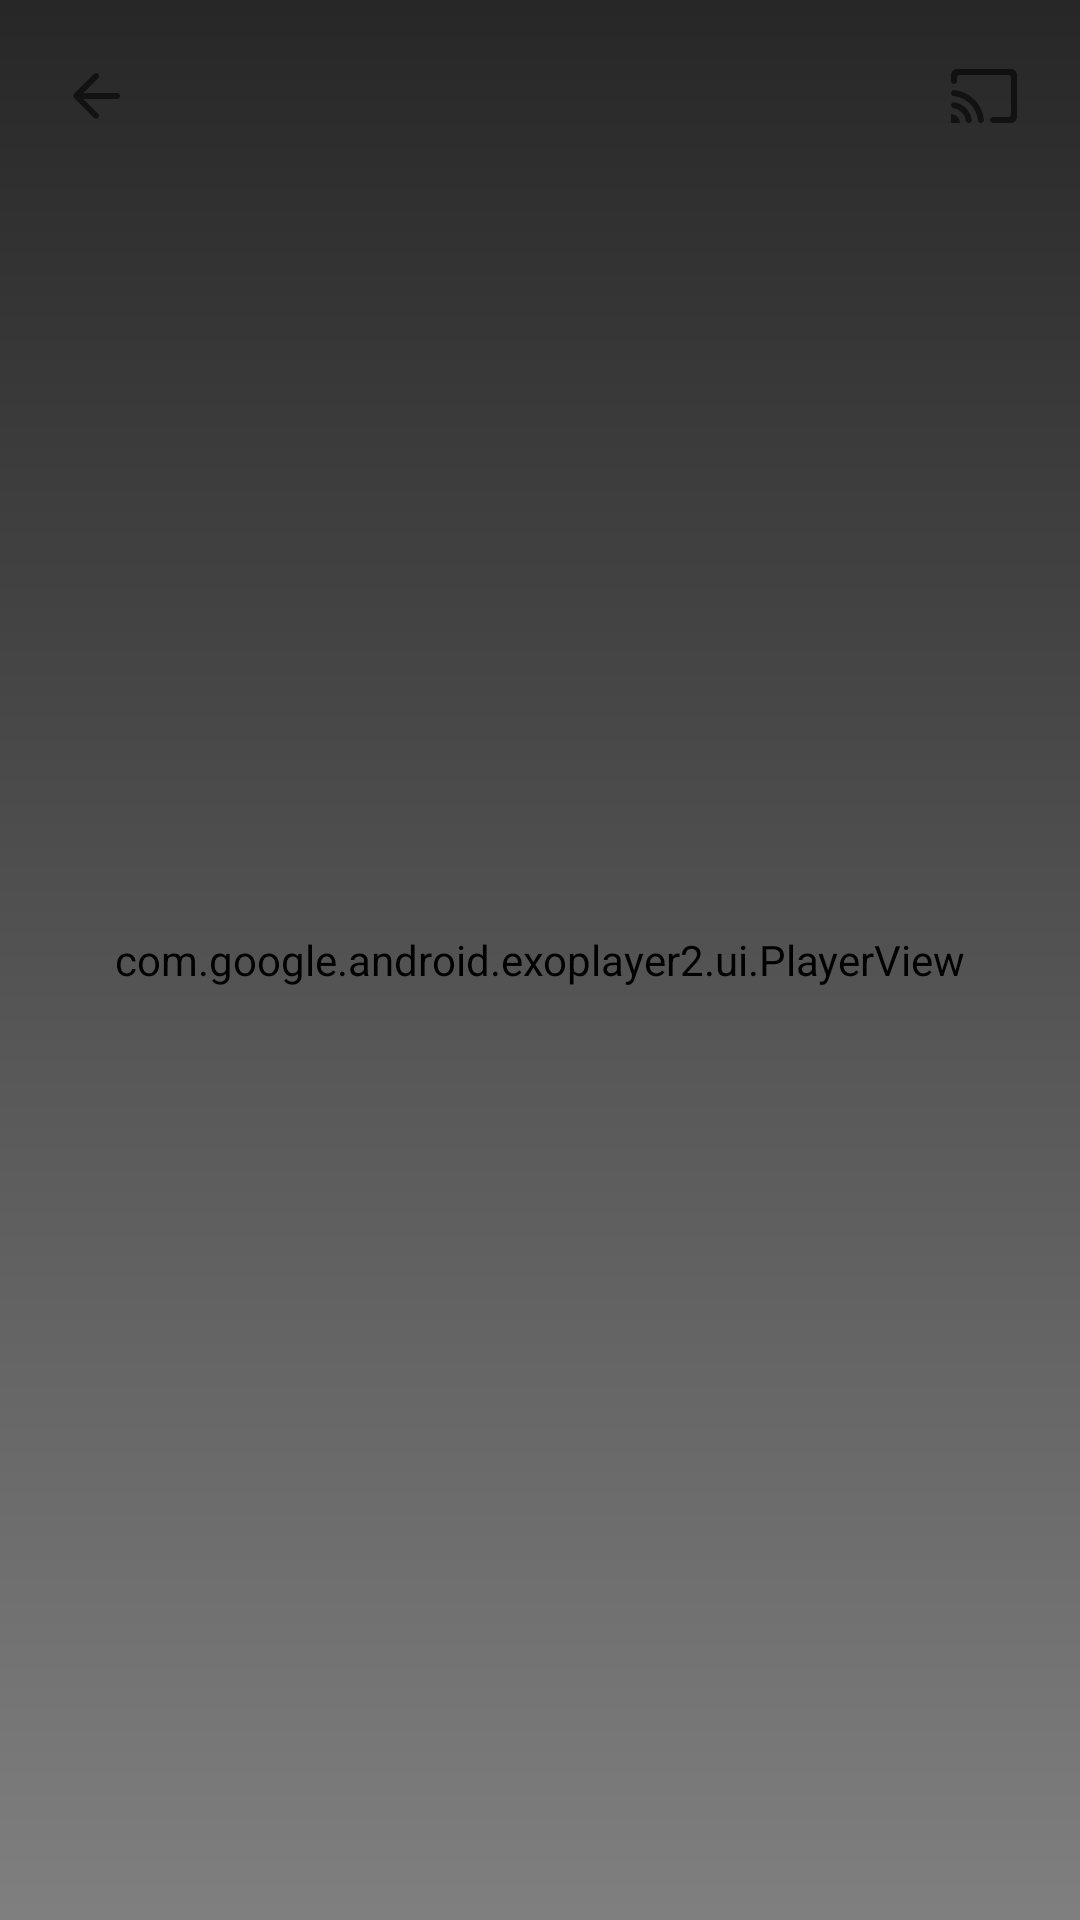

Screen size 1080×1920. Icon name, then its box in pixels as (x1, y1, x2, y2):
back: (74, 74, 119, 118)
cast: (951, 69, 1017, 123)
